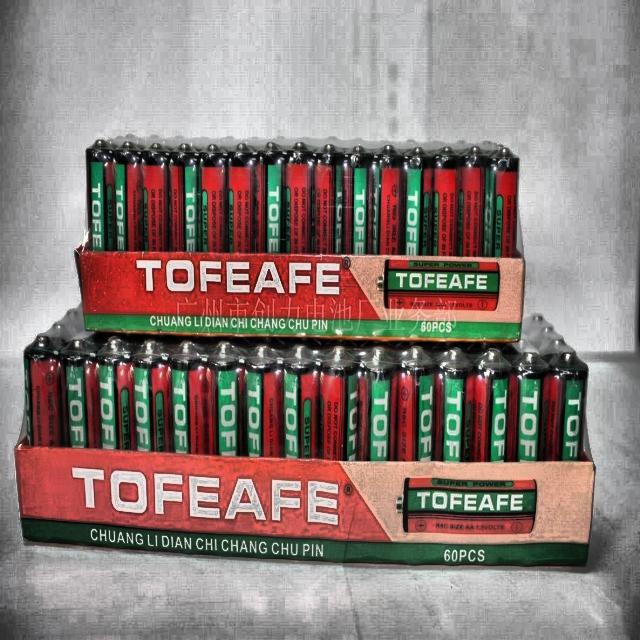Non-Valuable Waste - Batteries: (545, 349, 588, 461), (471, 349, 511, 462), (24, 334, 64, 447), (396, 345, 434, 462), (508, 351, 548, 462), (132, 340, 171, 452), (358, 347, 396, 461), (60, 340, 100, 448), (170, 342, 208, 454), (434, 347, 471, 462), (245, 343, 282, 455), (320, 345, 356, 460), (98, 336, 134, 449), (482, 148, 519, 257), (284, 343, 319, 458), (209, 342, 241, 456), (372, 144, 402, 255), (228, 143, 258, 253), (86, 139, 115, 251), (169, 144, 199, 251), (342, 146, 372, 252), (114, 141, 142, 251), (404, 146, 432, 255), (141, 143, 169, 251), (200, 144, 228, 251), (285, 143, 312, 253), (458, 146, 485, 256), (315, 144, 342, 252), (262, 143, 288, 253), (432, 146, 458, 255)
